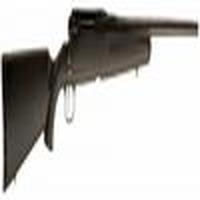gun: (1, 6, 194, 170)
